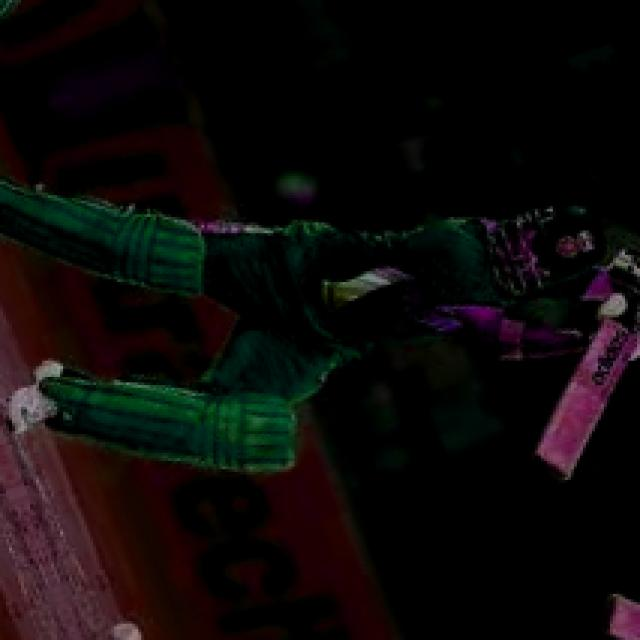toe: (532, 424, 582, 489)
